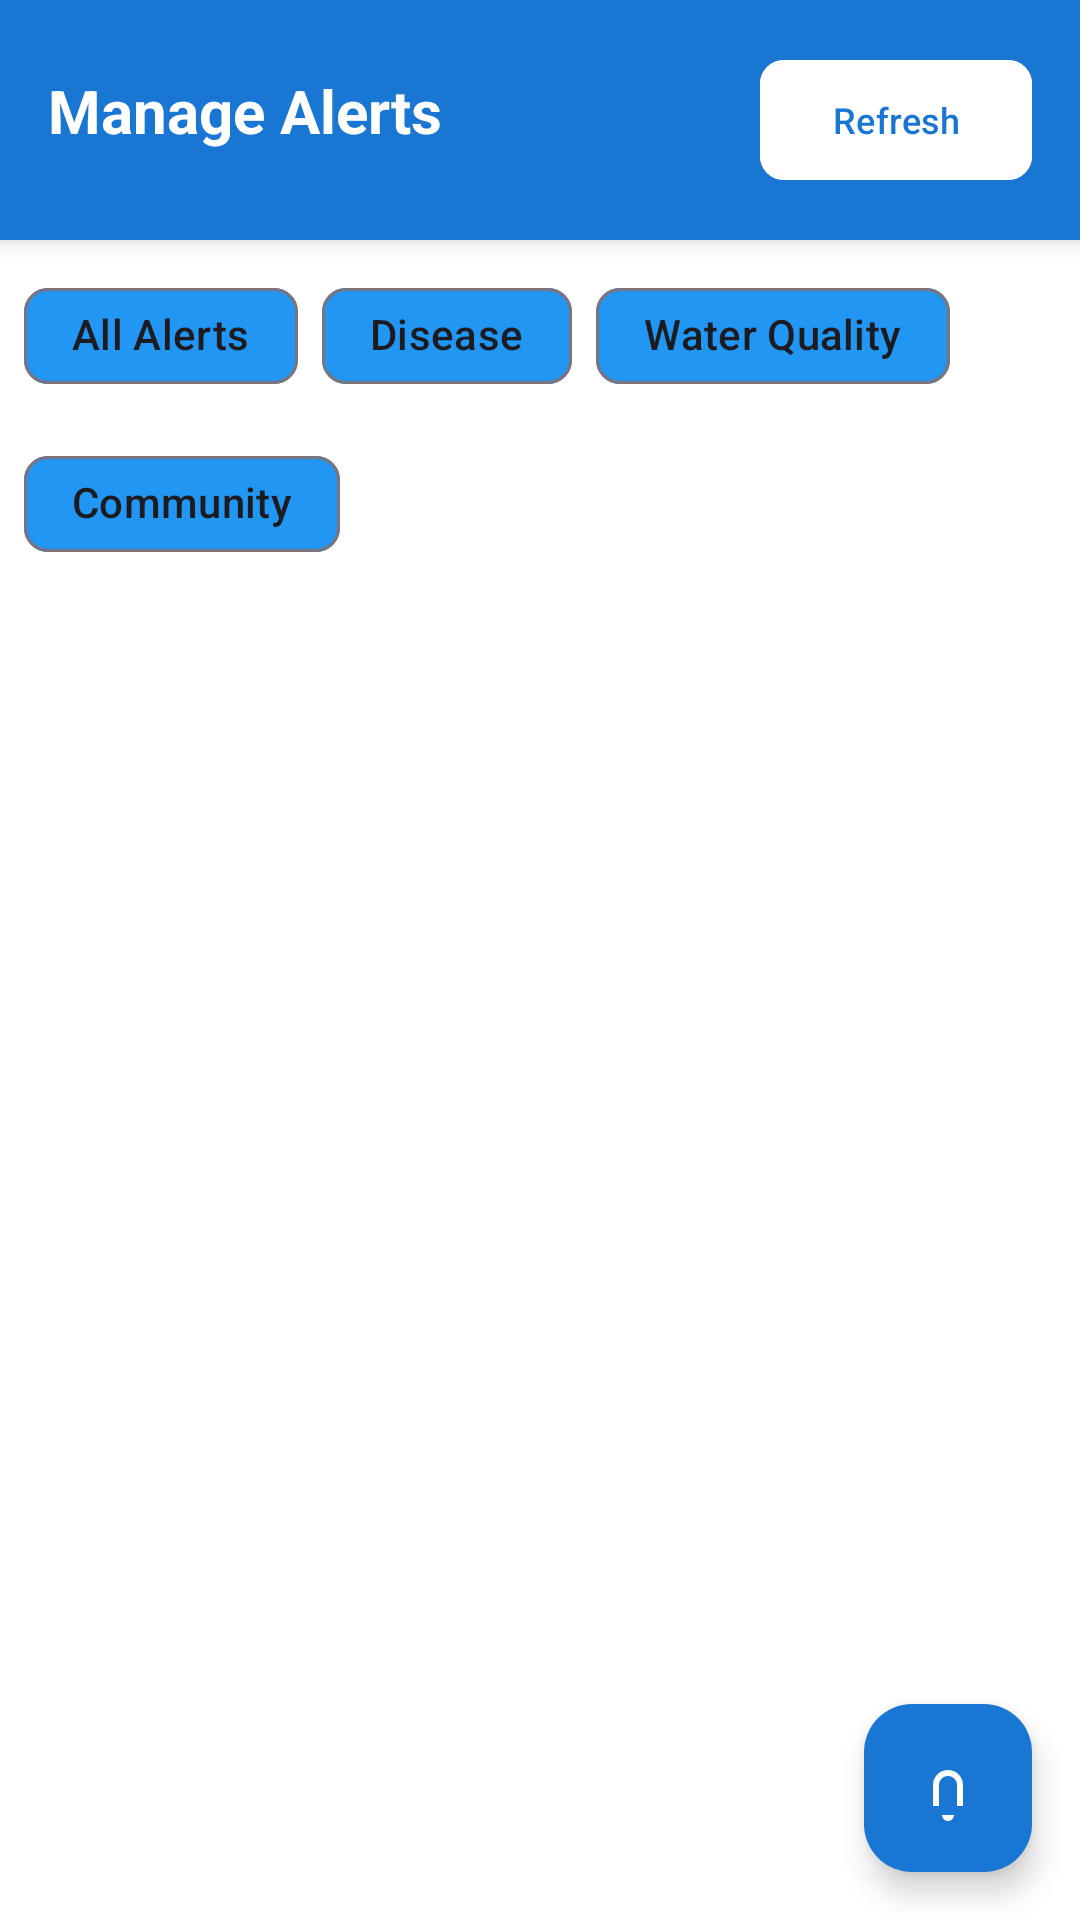

Named icons in this screenshot (1080x1920) and their centers, (x,y):
Create new alert: (948,1788)
